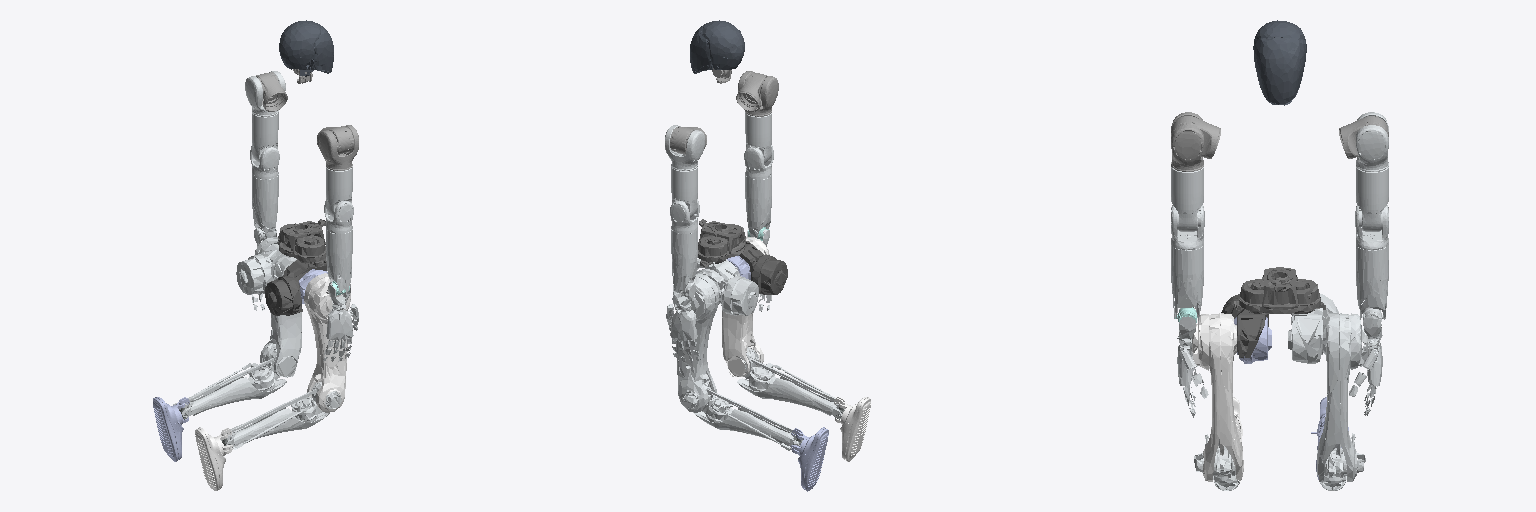
--- Facts derived from the render (not from the file) ---
3 views of the same robot in one strip: view 1: azimuth 30°, elevation 25°; view 2: azimuth 150°, elevation 25°; view 3: azimuth 270°, elevation 25° (orthographic).
Model Hi with 30 links and 29 joints (27 revolute, 2 fixed), rooted at TORSO, posed all joints at 0 but 2 set to mid-range because 0 is outside their limits (Knee_R = 1.32, Knee_L = 1.32).
Visible links, largest first — view 1: THIGH_R, SHANK_L, SHANK_R, HEAD, THIGH_L, SACRUM, ILIUM_R, HAND_R, ILIUM_L, FOOT_L, FOOT_R, WRIST_REVOLUTE_R (+8 smaller); view 2: THIGH_L, SHANK_R, SHANK_L, HEAD, THIGH_R, SACRUM, ILIUM_L, HAND_L, ILIUM_R, FOOT_R, FOOT_L, WRIST_REVOLUTE_L (+8 smaller); view 3: THIGH_R, THIGH_L, HEAD, SACRUM, WRIST_REVOLUTE_L, WRIST_REVOLUTE_R, UPPERARM_R, UPPERARM_L, SHOULDER_R, SHOULDER_L, HAND_L, HAND_R (+10 smaller).
Boxes of the visible links, x1,y1,x2,y2 form: THIGH_R: [304, 273, 350, 412]; SHANK_L: [173, 347, 288, 417]; SHANK_R: [221, 382, 341, 449]; HEAD: [279, 20, 333, 76]; THIGH_L: [255, 237, 301, 377]; SACRUM: [278, 219, 325, 266]; ILIUM_R: [265, 258, 326, 315]; HAND_R: [323, 282, 358, 361]; ILIUM_L: [236, 241, 284, 294]; FOOT_L: [153, 397, 189, 461]; FOOT_R: [195, 427, 233, 490]; WRIST_REVOLUTE_R: [326, 229, 352, 292]; THIGH_L: [672, 274, 719, 412]; SHANK_R: [737, 347, 844, 417]; SHANK_L: [683, 382, 802, 450]; HEAD: [690, 20, 744, 73]; THIGH_R: [722, 237, 769, 376]; SACRUM: [698, 219, 745, 266]; ILIUM_L: [696, 258, 758, 315]; HAND_L: [666, 283, 700, 362]; ILIUM_R: [739, 241, 787, 294]; FOOT_R: [834, 397, 870, 461]; FOOT_L: [790, 427, 828, 491]; WRIST_REVOLUTE_L: [671, 229, 697, 293]; THIGH_R: [1192, 313, 1242, 481]; THIGH_L: [1317, 313, 1367, 481]; HEAD: [1253, 20, 1306, 105]; SACRUM: [1234, 267, 1325, 313]; WRIST_REVOLUTE_L: [1356, 245, 1388, 319]; WRIST_REVOLUTE_R: [1171, 245, 1203, 320]; UPPERARM_R: [1171, 167, 1203, 231]; UPPERARM_L: [1356, 167, 1388, 231]; SHOULDER_R: [1171, 112, 1203, 171]; SHOULDER_L: [1356, 112, 1388, 171]; HAND_L: [1349, 315, 1382, 415]; HAND_R: [1177, 307, 1208, 417].
Bounding box of the posed robot: 0.5488 × 0.5433 × 1.45 m (x, y, z).
Meshes: 30 distinct files referenced, 29 mesh visuals loaded (29 binary STL); not drawn: 1 (reference not matched to a file when rendering).

The robot description file, URDF, robot "Hi":
<?xml version="1.0" encoding="utf-8"?>
<!-- This URDF was automatically created by SolidWorks to URDF Exporter! Originally created by Stephen Brawner ([email redacted]) 
     Commit Version: 1.6.0-1-g15f4949  Build Version: 1.6.7594.29634
     For more information, please see http://wiki.ros.org/sw_urdf_exporter -->
<robot name="Hi">
  <mujoco>
    <compiler meshdir="../meshes" discardvisual="false" balanceinertia="true"/>
  </mujoco>

  <link name="SACRUM">
    <inertial>
      <origin xyz="0.000349547087776611 6.72203982574754E-06 -0.0507127555650615" rpy="0 0 0" />
      <mass value="3.02215535624108" />
      <inertia ixx="0.010" ixy="0.0" ixz="0.0"
               iyy="0.004" iyz="0.0" izz="0.011" />
    </inertial>
    <visual>
      <origin xyz="0 0 0" rpy="0 0 0" />
      <geometry>
        <mesh filename="../meshes/SACRUM.STL" />
      </geometry>
      <material name="">
        <color rgba="0.498039215686275 0.498039215686275 0.498039215686275 1" />
      </material>
    </visual>
     <collision>
      <origin
        xyz="0 0 0"
        rpy="0 0 0" />
      <geometry>
        <mesh
          filename="../meshes/SACRUM.STL" />
      </geometry>
    </collision>
  </link>

  <link name="TORSO">
    <inertial>
      <origin xyz="-0.00066928 -4.5533E-05 0.16942" rpy="0 0 0" />
      <mass value="19.704" />
      <inertia ixx="0.385" ixy="0.000" ixz="-0.002"
               iyy="0.301" iyz="0.000" izz="0.141" />
    </inertial>
    <visual>
      <origin xyz="0 0 0" rpy="0 0 0" />
      <geometry>
        <mesh filename="../meshes/TORSO.STL" />
      </geometry>
      <material name="">
        <color rgba="0.49804 0.49804 0.49804 1" />
      </material>
    </visual>
     <collision>
      <origin
        xyz="0 0 0"
        rpy="0 0 0" />
      <geometry>
        <mesh
          filename="../meshes/TORSO.STL" />
      </geometry>
    </collision>
  </link>

  <joint name="A_Waist" type="revolute">
    <origin xyz="0 0 -0.0691" rpy="0 0 0" />
    <parent link="TORSO" />
    <child link="SACRUM" />
    <axis xyz="0 0 1" />
    <limit lower="-0.523"
            upper="0.523"
            effort="96"
            velocity="12.204" />
  </joint>

  <link name="SCAPULA_R">
    <inertial>
      <origin xyz="0.00400566910493358 -0.0697846247959809 -0.000414011813224091" rpy="0 0 0" />
      <mass value="1.26951093509678" />
      <inertia
        ixx="0.001" ixy="0.00" ixz="0.00"
        iyy="0.001" iyz="0.00" izz="0.001" />
    </inertial>
    <visual>
      <origin
        xyz="0 0 0"
        rpy="0 0 0" />
      <geometry>
        <mesh
          filename="../meshes/SCAPULA_R.STL" />
      </geometry>
      <material
        name="">
        <color
          rgba="0.698039215686274 0.698039215686274 0.698039215686274 1" />
      </material>
    </visual>
     <collision>
      <origin
        xyz="0 0 0"
        rpy="0 0 0" />
      <geometry>
        <mesh
          filename="../meshes/SCAPULA_R.STL" />
      </geometry>
    </collision>
  </link>
  <joint name="Shoulder_Y_R" type="revolute">
    <origin
      xyz="0 -0.15869 0.29644"
      rpy="-0.34907 0 0" />
    <parent
      link="TORSO" />
    <child
      link="SCAPULA_R" />
    <axis
      xyz="0 1 0" />
    <limit
      lower="-3.14"
      upper="1.22"
      effort="54.67"
      velocity="4.58" />
  </joint>

  <link name="SHOULDER_R">
    <inertial>
      <origin xyz="-0.000187387954732679 -0.000796213076175029 -0.0823834087759314" rpy="0 0 0" />
      <mass value="1.38176034538629" />
      <inertia
        ixx="0.003" ixy="0.00" ixz="0.00"
        iyy="0.004" iyz="0.00" izz="0.001" />
    </inertial>
    <visual>
      <origin
        xyz="0 0 0"
        rpy="0 0 0" />
      <geometry>
        <mesh
          filename="../meshes/SHOULDER_R.STL" />
      </geometry>
      <material
        name="">
        <color
          rgba="0.698039215686274 0.698039215686274 0.698039215686274 1" />
      </material>
    </visual>
     <collision>
      <origin
        xyz="0 0 0"
        rpy="0 0 0" />
      <geometry>
        <mesh
          filename="../meshes/SHOULDER_R.STL" />
      </geometry>
    </collision>
  </link>
  <joint name="Shoulder_X_R" type="revolute">
    <origin
      xyz="0 -0.075202 0"
      rpy="0.34907 0 0" />
    <parent
      link="SCAPULA_R" />
    <child
      link="SHOULDER_R" />
    <axis
      xyz="1 0 0" />
    <limit
      lower="-2.26"
      upper="0"
      effort="54.67"
      velocity="4.58" />
  </joint>

  <link name="UPPERARM_R">
    <inertial>
      <origin xyz="-0.000150427974589584 -0.0013837454771512 -0.119529310769545" rpy="0 0 0" />
      <mass value="1.15167917389116" />
      <inertia
        ixx="0.003" ixy="0.00" ixz="0.00"
        iyy="0.003" iyz="0.00" izz="0.001" />
    </inertial>
    <visual>
      <origin
        xyz="0 0 0"
        rpy="0 0 0" />
      <geometry>
        <mesh
          filename="../meshes/UPPERARM_R.STL" />
      </geometry>
      <material
        name="">
        <color
          rgba="0.898039215686275 0.917647058823529 0.929411764705882 1" />
      </material>
    </visual>
     <collision>
      <origin
        xyz="0 0 0"
        rpy="0 0 0" />
      <geometry>
        <mesh
          filename="../meshes/UPPERARM_R.STL" />
      </geometry>
    </collision>
  </link>
  <joint name="Shoulder_Z_R" type="revolute">
    <origin
      xyz="-1E-05 0 -0.0845"
      rpy="0 0 0" />
    <parent
      link="SHOULDER_R" />
    <child
      link="UPPERARM_R" />
    <axis
      xyz="0 0 1" />
    <limit
      lower="-2.09"
      upper="2.09"
      effort="54.67"
      velocity="4.58" />
  </joint>

  <link name="FOREARM_R">
    <inertial>
      <origin xyz="-0.000517598306802938 0.000475828274850459 -0.0750122217350255" rpy="0 0 0" />
      <mass value="0.964265226005386" />
      <inertia
        ixx="0.002" ixy="0.00" ixz="0.00"
        iyy="0.002" iyz="0.00" izz="0.001" />
    </inertial>
    <visual>
      <origin
        xyz="0 0 0"
        rpy="0 0 0" />
      <geometry>
        <mesh
          filename="../meshes/FOREARM_R.STL" />
      </geometry>
      <material
        name="">
        <color
          rgba="0.898039215686275 0.917647058823529 0.929411764705882 1" />
      </material>
    </visual>
     <collision>
      <origin
        xyz="0 0 0"
        rpy="0 0 0" />
      <geometry>
        <mesh
          filename="../meshes/FOREARM_R.STL" />
      </geometry>
    </collision>
  </link>
  <joint name="Elbow_R" type="revolute">
    <origin
      xyz="0 0 -0.1455"
      rpy="0 0 0" />
    <parent
      link="UPPERARM_R" />
    <child
      link="FOREARM_R" />
    <axis
      xyz="0 1 0" />
    <limit
      lower="-1.57"
      upper="0"
      effort="33"
      velocity="7.17" />
  </joint>

  <link name="WRIST_REVOLUTE_R">
    <inertial>
      <origin xyz="0.000431441811552552 -0.000950548685657721 -0.105249650721468" rpy="0 0 0" />
      <mass value="0.807080212201238" />
      <inertia
        ixx="0.003" ixy="0.00" ixz="0.00"
        iyy="0.002" iyz="0.00" izz="0.001" />
    </inertial>
    <visual>
      <origin
        xyz="0 0 0"
        rpy="0 0 0" />
      <geometry>
        <mesh
          filename="../meshes/WRIST_REVOLUTE_R.STL" />
      </geometry>
      <material
        name="">
        <color
          rgba="0.898039215686275 0.917647058823529 0.929411764705882 1" />
      </material>
    </visual>
     <collision>
      <origin
        xyz="0 0 0"
        rpy="0 0 0" />
      <geometry>
        <mesh
          filename="../meshes/WRIST_REVOLUTE_R.STL" />
      </geometry>
    </collision>
  </link>
  <joint name="Wrist_Z_R" type="revolute">
    <origin
      xyz="0 0 -0.068424"
      rpy="0 0 0" />
    <parent
      link="FOREARM_R" />
    <child
      link="WRIST_REVOLUTE_R" />
    <axis
      xyz="0 0 1" />
    <limit
      lower="-2.96"
      upper="2.96"
      effort="15"
      velocity="4.58" />
  </joint>

  <link name="WRIST_UPDOWN_R">
    <inertial>
      <origin xyz="0.0012106037788502 -0.000409146062765847 -2.30692765414986E-05" rpy="0 0 0" />
      <mass value="0.300585798923164" />
      <inertia
        ixx="7.19512926025205E-05" ixy="-1.5038820487215E-07" ixz="-3.31399908676816E-08"
        iyy="4.18864352400047E-05" iyz="1.61671879913588E-07" izz="4.61837999641859E-05" />
    </inertial>
    <visual>
      <origin
        xyz="0 0 0"
        rpy="0 0 0" />
      <geometry>
        <mesh
          filename="../meshes/WRIST_UPDOWN_R.STL" />
      </geometry>
      <material
        name="">
        <color
          rgba="0.811764705882353 1 0.980392156862745 1" />
      </material>
    </visual>
     <collision>
      <origin
        xyz="0 0 0"
        rpy="0 0 0" />
      <geometry>
        <mesh
          filename="../meshes/WRIST_UPDOWN_R.STL" />
      </geometry>
    </collision>
  </link>
  <joint name="Wrist_Y_R" type="revolute">
    <origin
      xyz="0 0 -0.20158"
      rpy="0 0 0" />
    <parent
      link="WRIST_REVOLUTE_R" />
    <child
      link="WRIST_UPDOWN_R" />
    <axis
      xyz="0 1 0" />
    <limit
      lower="-0.87"
      upper="0.87"
      effort="7"
      velocity="3.62" />
  </joint>

  <link name="HAND_R">
    <inertial>
      <origin xyz="0.00704233256805226 -0.000160093721480153 -0.12352503949791" rpy="0 0 0" />
      <mass value="0.664607012887281" />
      <inertia
        ixx="0.002" ixy="-1.41468504761944E-06" ixz="9.32067541347773E-06"
        iyy="0.003" iyz="-1.39063938994495E-06" izz="0.001" />
    </inertial>
    <visual>
      <origin
        xyz="0 0 0"
        rpy="0 0 0" />
      <geometry>
        <mesh
          filename="../meshes/HAND_R.STL" />
      </geometry>
      <material
        name="">
        <color
          rgba="0.898039215686275 0.917647058823529 0.929411764705882 1" />
      </material>
    </visual>
     <collision>
      <origin
        xyz="0 0 0"
        rpy="0 0 0" />
      <geometry>
        <mesh
          filename="../meshes/HAND_R.STL" />
      </geometry>
    </collision>
  </link>
  <joint name="Wrist_X_R" type="revolute">
    <origin
      xyz="0 0 0"
      rpy="0 0 0" />
    <parent
      link="WRIST_UPDOWN_R" />
    <child
      link="HAND_R" />
    <axis
      xyz="1 0 0" />
    <limit
      lower="-0.87"
      upper="1.57"
      effort="7"
      velocity="3.62" />
  </joint>

  <link name="SCAPULA_L">
    <inertial>
      <origin
        xyz="0.00400263772227397 0.0697880160520229 0.000251205468202231"
        rpy="0 0 0" />
      <mass
        value="1.26939754547978" />
      <inertia
        ixx="0.001" ixy="-0.00" ixz="-0.00"
        iyy="0.001" iyz="-0.00" izz="0.001" />
    </inertial>
    <visual>
      <origin
        xyz="0 0 0"
        rpy="0 0 0" />
      <geometry>
        <mesh
          filename="../meshes/SCAPULA_L.STL" />
      </geometry>
      <material
        name="">
        <color
          rgba="0.698039215686274 0.698039215686274 0.698039215686274 1" />
      </material>
    </visual>
     <collision>
      <origin
        xyz="0 0 0"
        rpy="0 0 0" />
      <geometry>
        <mesh
          filename="../meshes/SCAPULA_L.STL" />
      </geometry>
    </collision>
  </link>
  <joint name="Shoulder_Y_L" type="revolute">
    <origin
      xyz="0 0.15869 0.29644"
      rpy="0.34907 0 0" />
    <parent
      link="TORSO" />
    <child
      link="SCAPULA_L" />
    <axis
      xyz="0 1 0" />
    <limit
      lower="-1.22"
      upper="3.14"
      effort="54.67"
      velocity="4.58" />
  </joint>

  <link name="SHOULDER_L">
    <inertial>
      <origin xyz="-0.000181357466442447 0.000167995164752133 -0.082367684836536" rpy="0 0 0" />
      <mass value="1.38240689883825" />
      <inertia
        ixx="0.003" ixy="0.00" ixz="0.00"
        iyy="0.004" iyz="0.00" izz="0.001" />
    </inertial>
    <visual>
      <origin
        xyz="0 0 0"
        rpy="0 0 0" />
      <geometry>
        <mesh
          filename="../meshes/SHOULDER_L.STL" />
      </geometry>
      <material
        name="">
        <color
          rgba="0.898039215686275 0.917647058823529 0.929411764705882 1" />
      </material>
    </visual>
     <collision>
      <origin
        xyz="0 0 0"
        rpy="0 0 0" />
      <geometry>
        <mesh
          filename="../meshes/SHOULDER_L.STL" />
      </geometry>
    </collision>
  </link>
  <joint name="Shoulder_X_L" type="revolute">
    <origin
      xyz="0 0.075202 0"
      rpy="-0.34907 0 0" />
    <parent
      link="SCAPULA_L" />
    <child
      link="SHOULDER_L" />
    <axis
      xyz="1 0 0" />
    <limit
      lower="0"
      upper="2.26"
      effort="54.67"
      velocity="4.58" />
  </joint>

  <link name="UPPERARM_L">
    <inertial>
      <origin xyz="7.48440000580969E-05 0.000973181848945098 -0.119564156853037" rpy="0 0 0" />
      <mass value="1.15205466163188" />
      <inertia ixx="0.003" ixy="0.00" ixz="0.00"
        iyy="0.003" iyz="0.00" izz="0.001" />
    </inertial>
    <visual>
      <origin
        xyz="0 0 0"
        rpy="0 0 0" />
      <geometry>
        <mesh
          filename="../meshes/UPPERARM_L.STL" />
      </geometry>
      <material
        name="">
        <color
          rgba="0.898039215686275 0.917647058823529 0.929411764705882 1" />
      </material>
    </visual>
     <collision>
      <origin
        xyz="0 0 0"
        rpy="0 0 0" />
      <geometry>
        <mesh
          filename="../meshes/UPPERARM_L.STL" />
      </geometry>
    </collision>
  </link>
  <joint name="Shoulder_Z_L" type="revolute">
    <origin
      xyz="0 0 -0.0845"
      rpy="0 0 0" />
    <parent
      link="SHOULDER_L" />
    <child
      link="UPPERARM_L" />
    <axis
      xyz="0 0 1" />
    <limit
      lower="-2.09"
      upper="2.09"
      effort="54.67"
      velocity="4.58" />
  </joint>

  <link name="FOREARM_L">
    <inertial>
      <origin xyz="-0.00053880141083168 0.000598633712610014 -0.0750633848858426" rpy="0 0 0" />
      <mass value="0.962923504066897" />
      <inertia
        ixx="0.002" ixy="0.00" ixz="0.00"
        iyy="0.002" iyz="0.00" izz="0.001" />
    </inertial>
    <visual>
      <origin
        xyz="0 0 0"
        rpy="0 0 0" />
      <geometry>
        <mesh
          filename="../meshes/FOREARM_L.STL" />
      </geometry>
      <material
        name="">
        <color
          rgba="0.898039215686275 0.917647058823529 0.929411764705882 1" />
      </material>
    </visual>
     <collision>
      <origin
        xyz="0 0 0"
        rpy="0 0 0" />
      <geometry>
        <mesh
          filename="../meshes/FOREARM_L.STL" />
      </geometry>
    </collision>
  </link>
  <joint name="Elbow_L" type="revolute">
    <origin
      xyz="0 0 -0.1455"
      rpy="0 0 0" />
    <parent
      link="UPPERARM_L" />
    <child
      link="FOREARM_L" />
    <axis
      xyz="0 1 0" />
    <limit
      lower="-1.57"
      upper="0"
      effort="33"
      velocity="7.17" />
  </joint>

  <link name="WRIST_REVOLUTE_L">
    <inertial>
      <origin xyz="0.000421442405164577 0.000436043607219078 -0.106091587175541" rpy="0 0 0" />
      <mass value="0.816182731607584" />
      <inertia
        ixx="0.003" ixy="0.00" ixz="0.00"
        iyy="0.003" iyz="0.00" izz="0.001" />
    </inertial>
    <visual>
      <origin
        xyz="0 0 0"
        rpy="0 0 0" />
      <geometry>
        <mesh
          filename="../meshes/WRIST_REVOLUTE_L.STL" />
      </geometry>
      <material
        name="">
        <color
          rgba="0.898039215686275 0.917647058823529 0.929411764705882 1" />
      </material>
    </visual>
     <collision>
      <origin
        xyz="0 0 0"
        rpy="0 0 0" />
      <geometry>
        <mesh
          filename="../meshes/WRIST_REVOLUTE_L.STL" />
      </geometry>
    </collision>
  </link>
  <joint name="Wrist_Z_L" type="revolute">
    <origin
      xyz="0 0 -0.068424"
      rpy="0 0 0" />
    <parent
      link="FOREARM_L" />
    <child
      link="WRIST_REVOLUTE_L" />
    <axis
      xyz="0 0 1" />
    <limit
      lower="-2.96"
      upper="2.96"
      effort="15"
      velocity="4.58" />
  </joint>

  <link name="WRIST_UPDOWN_L">
    <inertial>
      <origin xyz="0.00121060807931878 0.000367632697248155 1.31575604482848E-05" rpy="0 0 0" />
      <mass value="0.300586616809931" />
      <inertia
        ixx="7.19516793467273E-05" ixy="8.07499162509748E-08" ixz="3.86112841277518E-08"
        iyy="4.1882900811556E-05" iyz="-1.57821190035867E-07" izz="4.61879504954561E-05" />
    </inertial>
    <visual>
      <origin
        xyz="0 0 0"
        rpy="0 0 0" />
      <geometry>
        <mesh
          filename="../meshes/WRIST_UPDOWN_L.STL" />
      </geometry>
      <material
        name="">
        <color
          rgba="0.898039215686275 0.917647058823529 0.929411764705882 1" />
      </material>
    </visual>
     <collision>
      <origin
        xyz="0 0 0"
        rpy="0 0 0" />
      <geometry>
        <mesh
          filename="../meshes/WRIST_UPDOWN_L.STL" />
      </geometry>
    </collision>
  </link>
  <joint name="Wrist_Y_L" type="revolute">
    <origin
      xyz="0 0 -0.20158"
      rpy="0 0 0" />
    <parent
      link="WRIST_REVOLUTE_L" />
    <child
      link="WRIST_UPDOWN_L" />
    <axis
      xyz="0 1 0" />
    <limit
      lower="-0.87"
      upper="0.87"
      effort="7"
      velocity="3.62" />
  </joint>

  <link name="HAND_L">
    <inertial>
      <origin xyz="0.00682932481897296 -0.000266254554519479 -0.123477452810365" rpy="0 0 0" />
      <mass value="0.664797816773533" />
      <inertia
        ixx="0.002" ixy="0.00" ixz="0.00"
        iyy="0.003" iyz="0.00" izz="0.001" />
    </inertial>
    <visual>
      <origin
        xyz="0 0 0"
        rpy="0 0 0" />
      <geometry>
        <mesh
          filename="../meshes/HAND_L.STL" />
      </geometry>
      <material
        name="">
        <color
          rgba="0.898039215686275 0.917647058823529 0.929411764705882 1" />
      </material>
    </visual>
     <collision>
      <origin
        xyz="0 0 0"
        rpy="0 0 0" />
      <geometry>
        <mesh
          filename="../meshes/HAND_L.STL" />
      </geometry>
    </collision>
  </link>
  <joint name="Wrist_X_L" type="revolute">
    <origin
      xyz="0 0 0"
      rpy="0 0 0" />
    <parent
      link="WRIST_UPDOWN_L" />
    <child
      link="HAND_L" />
    <axis
      xyz="1 0 0" />
    <limit
      lower="-1.57"
      upper="0.87"
      effort="7"
      velocity="3.62" />
  </joint>

  <link name="ILIUM_R">
    <inertial>
      <origin xyz="-0.0975642590819654 -0.0354786240384467 0.00831189475838978" rpy="0 0 0" />
      <mass value="2.81278353129309" />
      <inertia
        ixx="0.006" ixy="0.001" ixz="0.002"
        iyy="0.012" iyz="0.00" izz="0.011" />
    </inertial>
    <visual>
      <origin
        xyz="0 0 0"
        rpy="0 0 0" />
      <geometry>
        <mesh
          filename="../meshes/ILIUM_R.STL" />
      </geometry>
      <material
        name="">
        <color
          rgba="0.43921568627451 0.43921568627451 0.43921568627451 1" />
      </material>
    </visual>
     <collision>
      <origin
        xyz="0 0 0"
        rpy="0 0 0" />
      <geometry>
        <mesh
          filename="../meshes/ILIUM_R.STL" />
      </geometry>
    </collision>
  </link>
  <joint name="Hip_Z_R" type="revolute">
    <origin
      xyz="0 -0.051 -0.1698"
      rpy="0 0 0" />
    <parent
      link="SACRUM" />
    <child
      link="ILIUM_R" />
    <axis
      xyz="0 0 1" />
    <limit
      lower="-0.209"
      upper="0.209"
      effort="96"
      velocity="16" />
  </joint>

  <link name="ISCHIUM_R">
    <inertial>
      <origin xyz="-0.00365073330205207 0.0186699920885547 -0.00020850293107344" rpy="0 0 0" />
      <mass
        value="2.53761330127982" />
      <inertia
        ixx="0.003" ixy="0.00" ixz="0.00"
        iyy="0.005" iyz="0.00" izz="0.004" />
    </inertial>
    <visual>
      <origin
        xyz="0 0 0"
        rpy="0 0 0" />
      <geometry>
        <mesh
          filename="../meshes/ISCHIUM_R.STL" />
      </geometry>
      <material
        name="">
        <color
          rgba="0.792156862745098 0.819607843137255 0.933333333333333 1" />
      </material>
    </visual>
     <collision>
      <origin
        xyz="0 0 0"
        rpy="0 0 0" />
      <geometry>
        <mesh
          filename="../meshes/ISCHIUM_R.STL" />
      </geometry>
    </collision>
  </link>
  <joint name="Hip_X_R" type="revolute">
    <origin
      xyz="0 -0.0375 0"
      rpy="0 0 0" />
    <parent
      link="ILIUM_R" />
    <child
      link="ISCHIUM_R" />
    <axis
      xyz="1 0 0" />
    <limit
      lower="-0.436"
      upper="0.436"
      effort="216"
      velocity="16" />
  </joint>

  <link name="THIGH_R">
    <inertial>
      <origin xyz="0.004891612004919 -0.0230654581131054 -0.0408628057143543" rpy="0 0 0" />
      <mass value="2.94365654752782" />
      <inertia
        ixx="0.029" ixy="0.00" ixz="-0.002"
        iyy="0.00" iyz="0.029" izz="0.005" />
    </inertial>
    <visual>
      <origin
        xyz="0 0 0"
        rpy="0 0 0" />
      <geometry>
        <mesh
          filename="../meshes/THIGH_R.STL" />
      </geometry>
      <material
        name="">
        <color
          rgba="1 1 1 1" />
      </material>
    </visual>
     <collision>
      <origin
        xyz="0 0 0"
        rpy="0 0 0" />
      <geometry>
        <mesh
          filename="../meshes/THIGH_R.STL" />
      </geometry>
    </collision>
  </link>
  <joint name="Hip_Y_R" type="revolute">
    <origin
      xyz="0 -0.043004 0"
      rpy="0 0 0" />
    <parent
      link="ISCHIUM_R" />
    <child
      link="THIGH_R" />
    <axis
      xyz="0 1 0" />
    <limit
      lower="-2.443"
      upper="0.436"
      effort="216"
      velocity="16" />
  </joint>

  <link name="SHANK_R">
    <inertial>
      <origin
        xyz="0.0110809570415845 -0.00748587626913599 -0.0719839927543433"
        rpy="0 0 0" />
      <mass
        value="2.27927601326776" />
      <inertia
        ixx="0.02" ixy="0.00" ixz="0.00"
        iyy="0.02" iyz="-0.001" izz="0.002" />
    </inertial>
    <visual>
      <origin
        xyz="0 0 0"
        rpy="0 0 0" />
      <geometry>
        <mesh
          filename="../meshes/SHANK_R.STL" />
      </geometry>
      <material
        name="">
        <color
          rgba="0.898039215686275 0.917647058823529 0.929411764705882 1" />
      </material>
    </visual>
     <collision>
      <origin
        xyz="0 0 0"
        rpy="0 0 0" />
      <geometry>
        <mesh
          filename="../meshes/SHANK_R.STL" />
      </geometry>
    </collision>
    <collision>
      <origin xyz="0.035 0 -0.18"/>
      <geometry>
        <cylinder radius="0.05" length="0.2" />
      </geometry>
    </collision>
  </link>
  <joint name="Knee_R"
    type="revolute">
    <origin
      xyz="0 0 -0.34"
      rpy="0 0 0" />
    <parent
      link="THIGH_R" />
    <child
      link="SHANK_R" />
    <axis
      xyz="0 1 0" />
    <limit
      lower="0.2"
      upper="2.443"
      effort="216"
      velocity="16" />
  </joint>

  <link name="ASTRAGALUS_R">
    <inertial>
      <origin
        xyz="0.00246209233657721 5.9176010104689E-05 1.23145407426861E-07"
        rpy="0 0 0" />
      <mass
        value="0.0540428010832721" />
      <inertia
        ixx="4.096142332809E-06" ixy="-5.93504903780132E-11" ixz="7.79724248693916E-11"
        iyy="7.67425544057305E-06" iyz="2.10288280946885E-11" izz="8.59958974753404E-06" />
    </inertial>
    <visual>
      <origin
        xyz="0 0 0"
        rpy="0 0 0" />
      <geometry>
        <mesh
          filename="../meshes/ASTRAGALUS_R.STL" />
      </geometry>
      <material
        name="">
        <color
          rgba="0.529411764705882 0.549019607843137 0.549019607843137 1" />
      </material>
    </visual>
     <collision>
      <origin
        xyz="0 0 0"
        rpy="0 0 0" />
      <geometry>
        <mesh
          filename="../meshes/ASTRAGALUS_R.STL" />
      </geometry>
    </collision>
  </link>
  <joint name="Ankle_Y_R" type="revolute">
    <origin
      xyz="0 0 -0.36"
      rpy="0 0 0" />
    <parent
      link="SHANK_R" />
    <child
      link="ASTRAGALUS_R" />
    <axis
      xyz="0 1 0" />
    <limit
      lower="-0.698"
      upper="0.525"
      effort="56"
      velocity="12.560" />
  </joint>

  <link name="FOOT_R">
    <inertial>
      <origin
        xyz="0.0172182308455084 -0.000490155366929923 -0.0526971717477904"
        rpy="0 0 0" />
      <mass
        value="0.66921361169682" />
      <inertia
        ixx="0.001" ixy="0.00" ixz="0.00"
        iyy="0.002" iyz="0.00" izz="0.002" />
    </inertial>
    <visual>
      <origin
        xyz="0 0 0"
        rpy="0 0 0" />
      <geometry>
        <mesh
          filename="../meshes/FOOT_R.STL" />
      </geometry>
      <material
        name="">
        <color
          rgba="1 1 1 1" />
      </material>
    </visual>
     <collision>
      <origin
        xyz="0 0 0"
        rpy="0 0 0" />
      <geometry>
        <mesh
          filename="../meshes/FOOT_R.STL" />
      </geometry>
    </collision>
  </link>
  <joint name="Ankle_X_R"
    type="revolute">
    <origin
      xyz="0 0 0"
      rpy="0 0 0" />
    <parent
      link="ASTRAGALUS_R" />
    <child
      link="FOOT_R" />
    <axis
      xyz="-1 0 0" />
    <limit
      lower="-0.331"
      upper="0.331"
      effort="40"
      velocity="12.560" />
  </joint>

  <!-- <link name="TIPTOE_R">
    <inertial>
      <origin
        xyz="1.38777878078145E-17 0 0"
        rpy="0 0 0" />
      <mass
        value="6.67588438887831E-08" />
      <inertia
        ixx="1.66897109721958E-15"
        ixy="0"
        ixz="0"
        iyy="1.66897109721958E-15"
        iyz="0"
        izz="1.66897109721958E-15" />
    </inertial>
    <visual>
      <origin
        xyz="0 0 0"
        rpy="0 0 0" />
      <geometry>
        <mesh
          filename="../meshes/TIPTOE_Z_R.STL" />
      </geometry>
      <material
        name="">
        <color
          rgba="1 1 1 1" />
      </material>
    </visual>
    <collision>
      <origin xyz="0 0 0.005"/>
      <geometry>
        <box size="0.18 0.08 0.01"/>
      </geometry>
    </collision>
  </link>
  <joint
    name="Tiptoe_Z_R"
    type="fixed">
    <origin
      xyz="0 0 -0.08497"
      rpy="0 0 0" />
    <parent
      link="FOOT_R" />
    <child
      link="TIPTOE_R" />
    <axis
      xyz="0 0 0" />
  </joint> -->

  <link name="ILIUM_L">
    <inertial>
      <origin
        xyz="-0.097564 0.035504 0.0082709"
        rpy="0 0 0" />
      <mass
        value="2.8128" />
      <inertia
        ixx="0.006" ixy="-0.001" ixz="0.002"
        iyy="0.012" iyz="0.00" izz="0.011" />
    </inertial>
    <visual>
      <origin
        xyz="0 0 0"
        rpy="0 0 0" />
      <geometry>
        <mesh
          filename="../meshes/ILIUM_L.STL" />
      </geometry>
      <material
        name="">
        <color
          rgba="0.89804 0.91765 0.92941 1" />
      </material>
    </visual>
     <collision>
      <origin
        xyz="0 0 0"
        rpy="0 0 0" />
      <geometry>
        <mesh
          filename="../meshes/ILIUM_L.STL" />
      </geometry>
    </collision>
  </link>
  <joint name="Hip_Z_L"
    type="revolute">
    <origin
      xyz="0 0.051 -0.1698"
      rpy="0 0 0" />
    <parent
      link="SACRUM" />
    <child
      link="ILIUM_L" />
    <axis
      xyz="0 0 1" />
    <limit
      lower="-0.209"
      upper="0.209"
      effort="96"
      velocity="16" />
  </joint>

  <link name="ISCHIUM_L">
    <inertial>
      <origin
        xyz="-0.00378118871227864 -0.0186369651990369 -0.000334508880895035"
        rpy="0 0 0" />
      <mass
        value="2.54211026639439" />
      <inertia
        ixx="0.004" ixy="0.00" ixz="0.00"
        iyy="0.005" iyz="0.00" izz="0.004" />
    </inertial>
    <visual>
      <origin
        xyz="0 0 0"
        rpy="0 0 0" />
      <geometry>
        <mesh
          filename="../meshes/ISCHIUM_L.STL" />
      </geometry>
      <material
        name="">
        <color
          rgba="0.898039215686275 0.917647058823529 0.929411764705882 1" />
      </material>
    </visual>
     <collision>
      <origin
        xyz="0 0 0"
        rpy="0 0 0" />
      <geometry>
        <mesh
          filename="../meshes/ISCHIUM_L.STL" />
      </geometry>
    </collision>
  </link>
  <joint name="Hip_X_L"
    type="revolute">
    <origin
      xyz="0 0.0375 0"
      rpy="0 0 0" />
    <parent
      link="ILIUM_L" />
    <child
      link="ISCHIUM_L" />
    <axis
      xyz="1 0 0" />
    <limit
      lower="-0.436"
      upper="0.436"
      effort="216"
      velocity="16" />
  </joint>

  <link name="THIGH_L">
    <inertial>
      <origin
        xyz="0.00486744936008764 0.0229267112286704 -0.041636516186895"
        rpy="0 0 0" />
      <mass
        value="2.95253119232822" />
      <inertia
        ixx="0.03" ixy="0.00" ixz="-0.002"
        iyy="0.03" iyz="0.001" izz="0.005" />
    </inertial>
    <visual>
      <origin
        xyz="0 0 0"
        rpy="0 0 0" />
      <geometry>
        <mesh
          filename="../meshes/THIGH_L.STL" />
      </geometry>
      <material
        name="">
        <color
          rgba="0.898039215686275 0.917647058823529 0.929411764705882 1" />
      </material>
    </visual>
     <collision>
      <origin
        xyz="0 0 0"
        rpy="0 0 0" />
      <geometry>
        <mesh
          filename="../meshes/THIGH_L.STL" />
      </geometry>
    </collision>
  </link>
  <joint name="Hip_Y_L" type="revolute">
    <origin
      xyz="0 0.043004 0"
      rpy="0 0 0" />
    <parent
      link="ISCHIUM_L" />
    <child
      link="THIGH_L" />
    <axis
      xyz="0 1 0" />
    <limit
      lower="-2.443"
      upper="0.436"
      effort="216"
      velocity="16" />
  </joint>

  <link name="SHANK_L">
    <inertial>
      <origin xyz="0.0111437713714776 0.0075144171292757 -0.0718395109013203" rpy="0 0 0" />
      <mass value="2.28347565956066" />
      <inertia
        ixx="0.02" ixy="0.000" ixz="0.000"
        iyy="0.02" iyz="0.001" izz="0.002" />
    </inertial>
    <visual>
      <origin
        xyz="0 0 0"
        rpy="0 0 0" />
      <geometry>
        <mesh
          filename="../meshes/SHANK_L.STL" />
      </geometry>
      <material
        name="">
        <color
          rgba="0.898039215686275 0.917647058823529 0.929411764705882 1" />
      </material>
    </visual>
     <collision>
      <origin
        xyz="0 0 0"
        rpy="0 0 0" />
      <geometry>
        <mesh
          filename="../meshes/SHANK_L.STL" />
      </geometry>
    </collision>
    <collision>
      <origin xyz="0.035 0 -0.18"/>
      <geometry>
        <cylinder radius="0.05" length="0.2" />
      </geometry>
    </collision>
  </link>
  <joint name="Knee_L"
    type="revolute">
    <origin
      xyz="0 0 -0.34"
      rpy="0 0 0" />
    <parent
      link="THIGH_L" />
    <child
      link="SHANK_L" />
    <axis
      xyz="0 1 0" />
    <limit
      lower="0.2"
      upper="2.443"
      effort="216"
      velocity="16" />
  </joint>

  <link name="ASTRAGALUS_L">
    <inertial>
      <origin xyz="0.00246209233657717 5.93317442537933E-05 -1.23145407759928E-07" rpy="0 0 0" />
      <mass value="0.0540428010832722" />
      <inertia
        ixx="4.09614233280902E-06" ixy="5.93504902113906E-11" ixz="-7.79724250402226E-11"
        iyy="7.67425544057315E-06" iyz="2.10288280962253E-11" izz="8.59958974753414E-06" />
    </inertial>
    <visual>
      <origin
        xyz="0 0 0"
        rpy="0 0 0" />
      <geometry>
        <mesh
          filename="../meshes/ASTRAGALUS_L.STL" />
      </geometry>
      <material
        name="">
        <color
          rgba="0.529411764705882 0.549019607843137 0.549019607843137 1" />
      </material>
    </visual>
     <collision>
      <origin
        xyz="0 0 0"
        rpy="0 0 0" />
      <geometry>
        <mesh
          filename="../meshes/ASTRAGALUS_L.STL" />
      </geometry>
    </collision>
  </link>
  <joint name="Ankle_Y_L" type="revolute">
    <origin
      xyz="0 0 -0.36"
      rpy="0 0 0" />
    <parent
      link="SHANK_L" />
    <child
      link="ASTRAGALUS_L" />
    <axis
      xyz="0 1 0" />
    <limit
      lower="-0.698"
      upper="0.525"
      effort="56"
      velocity="12.560" />
  </joint>

  <link name="FOOT_L">
    <inertial>
      <origin
        xyz="0.0173378971382406 0.000446493080629981 -0.0526985178808428"
        rpy="0 0 0" />
      <mass
        value="0.669297710196622" />
      <inertia
        ixx="0.000265846142331934"
        ixy="1.98211949368065E-05"
        ixz="1.25416614346479E-05"
        iyy="0.00143885589573861"
        iyz="-3.15941982128854E-06"
        izz="0.00165348852732234" />
    </inertial>
    <visual>
      <origin
        xyz="0 0 0"
        rpy="0 0 0" />
      <geometry>
        <mesh
          filename="../meshes/FOOT_L.STL" />
      </geometry>
      <material
        name="">
        <color
          rgba="0.792156862745098 0.819607843137255 0.933333333333333 1" />
      </material>
    </visual>
     <collision>
      <origin
        xyz="0 0 0"
        rpy="0 0 0" />
      <geometry>
        <mesh
          filename="../meshes/FOOT_L.STL" />
      </geometry>
    </collision>
  </link>
  <joint name="Ankle_X_L" type="revolute">
    <origin
      xyz="0 0 0"
      rpy="0 0 0" />
    <parent
      link="ASTRAGALUS_L" />
    <child
      link="FOOT_L" />
    <axis
      xyz="1 0 0" />
    <limit
      lower="-0.331"
      upper="0.331"
      effort="40"
      velocity="12.560" />
  </joint>

  <!-- <link name="TIPTOE_L">
    <inertial>
      <origin
        xyz="1.38777878078145E-17 0 0"
        rpy="0 0 0" />
      <mass
        value="6.67588438887831E-08" />
      <inertia
        ixx="1.66897109721958E-15"
        ixy="0"
        ixz="0"
        iyy="1.66897109721958E-15"
        iyz="0"
        izz="1.66897109721958E-15" />
    </inertial>
    <visual>
      <origin
        xyz="0 0 0"
        rpy="0 0 0" />
      <geometry>
        <mesh
          filename="../meshes/TIPTOE_Z_L.STL" />
      </geometry>
      <material
        name="">
        <color
          rgba="1 1 1 1" />
      </material>
    </visual>
    <collision>
      <origin xyz="0 0 0.005"/>
      <geometry>
        <box size="0.18 0.08 0.01"/>
      </geometry>
    </collision>
  </link>
  <joint name="Tiptoe_Z_L"
    type="fixed">
    <origin
      xyz="0 0 -0.08497"
      rpy="0 0 0" />
    <parent
      link="FOOT_L" />
    <child
      link="TIPTOE_L" />
    <axis
      xyz="0 0 0" />
  </joint> -->

  <link
    name="NECK">
    <inertial>
      <origin
        xyz="2.5298E-06 0.00054416 0.039066"
        rpy="0 0 0" />
      <mass
        value="0.31299" />
      <inertia
        ixx="5.1138E-05"
        ixy="-4.0141E-09"
        ixz="1.2204E-08"
        iyy="7.8331E-05"
        iyz="3.4878E-06"
        izz="4.6855E-05" />
    </inertial>
    <visual>
      <origin
        xyz="0 0 0"
        rpy="0 0 0" />
      <geometry>
        <mesh
          filename="../meshes/NECK.STL" />
      </geometry>
      <material
        name="">
        <color
          rgba="0.69804 0.69804 0.69804 1" />
      </material>
    </visual>
     <collision>
      <origin
        xyz="0 0 0"
        rpy="0 0 0" />
      <geometry>
        <mesh
          filename="../meshes/NECK.STL" />
      </geometry>
    </collision>
  </link>

  <joint name="Neck_Z" type="fixed">
    <origin xyz="0 0 0.43204" rpy="0 0 0" />
    <parent
      link="TORSO" />
    <child
      link="NECK" />
    <axis
      xyz="0 0 1" />
    <limit
      lower="-0.785"
      upper="0.785"
      effort="7"
      velocity="3.62" />
  </joint>

  <link name="HEAD">
    <inertial>
      <origin xyz="0.014618 -0.0011212 0.065974" rpy="0 0 0" />
      <mass
        value="0.67892" />
      <inertia
        ixx="0.00084994"
        ixy="-1.5203E-06"
        ixz="-1.8888E-05"
        iyy="0.00073044"
        iyz="-8.2217E-06"
        izz="0.00088165" />
    </inertial>
    <visual>
      <origin
        xyz="0 0 0"
        rpy="0 0 0" />
      <geometry>
        <mesh
          filename="../meshes/HEAD.STL" />
      </geometry>
      <material
        name="">
        <color
          rgba="0.38431 0.41176 0.45098 1" />
      </material>
    </visual>
     <collision>
      <origin
        xyz="0 0 0"
        rpy="0 0 0" />
      <geometry>
        <mesh
          filename="../meshes/HEAD.STL" />
      </geometry>
    </collision>
  </link>
  <joint
    name="Neck_Y"
    type="fixed">
    <origin
      xyz="0 0 0.042"
      rpy="0 0 0" />
    <parent
      link="NECK" />
    <child
      link="HEAD" />
    <axis
      xyz="0 1 0" />
    <limit
      lower="-0.174"
      upper="0.349"
      effort="7"
      velocity="3.62" />
  </joint>
</robot>
